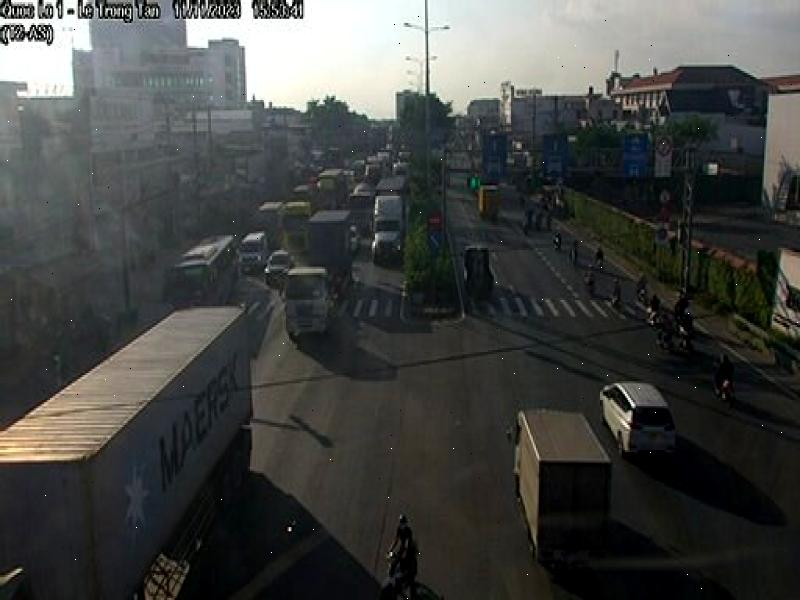truck: (0, 298, 255, 600), (512, 404, 612, 576), (285, 206, 355, 336)
